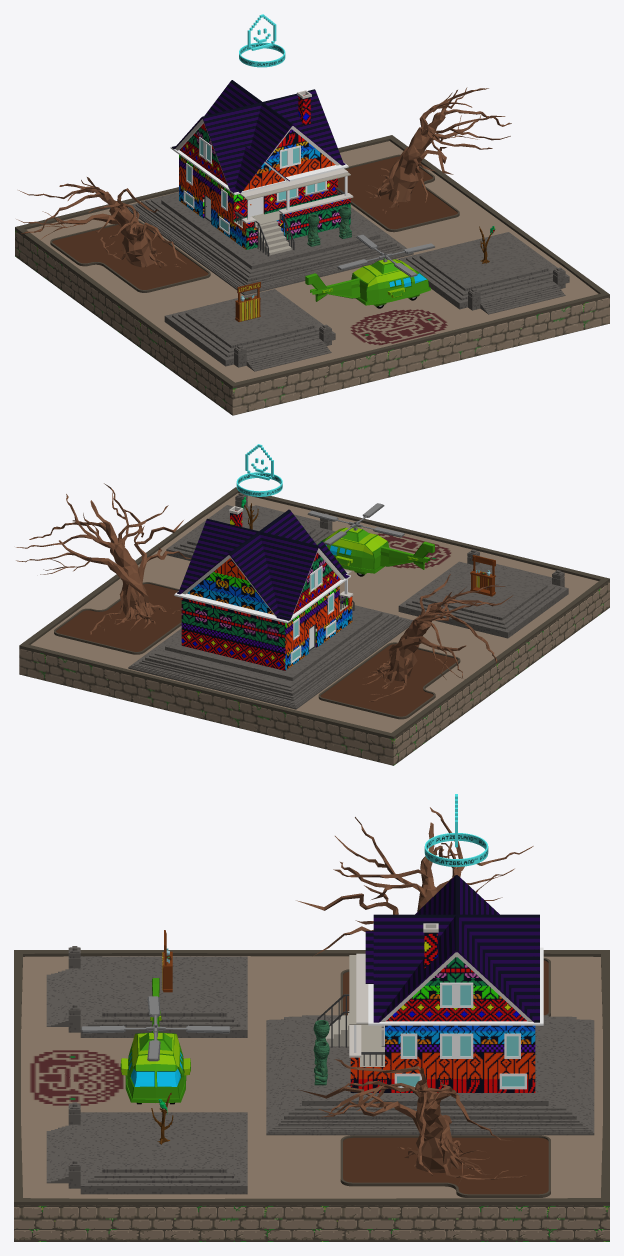
3 renders of one model, top to bottom at view 1: azimuth 30°, elevation 25°; view 2: azimuth 150°, elevation 25°; view 3: azimuth 270°, elevation 25°, orthographic. The views are drawn at different scales.
Visible parts, largest first — view 1: Cube.011, Cube.966, VEHICLES_HELICOPTER, TYPE_PREMIUM, OBJRANDOM_LEMONADE_STAND; view 2: Cube.011, Cube.966, VEHICLES_HELICOPTER, TYPE_PREMIUM, OBJRANDOM_LEMONADE_STAND; view 3: Cube.011, Cube.966, VEHICLES_HELICOPTER, TYPE_PREMIUM.
Boxes of the visible parts, box(x1,y1,x2,y2) form: Cube.011: box(15, 87, 609, 415); Cube.966: box(170, 80, 353, 256); VEHICLES_HELICOPTER: box(305, 234, 434, 308); TYPE_PREMIUM: box(239, 14, 285, 67); OBJRANDOM_LEMONADE_STAND: box(235, 282, 260, 321); Cube.011: box(16, 483, 609, 765); Cube.966: box(174, 506, 354, 670); VEHICLES_HELICOPTER: box(307, 503, 434, 576); TYPE_PREMIUM: box(236, 444, 282, 496); OBJRANDOM_LEMONADE_STAND: box(470, 555, 495, 596); Cube.011: box(14, 807, 609, 1241); Cube.966: box(317, 875, 543, 1092); VEHICLES_HELICOPTER: box(81, 978, 230, 1104); TYPE_PREMIUM: box(424, 794, 488, 866).
Size of the model in its own units: 5099 by 2567 by 4000.
45 materials, 10 textured.
